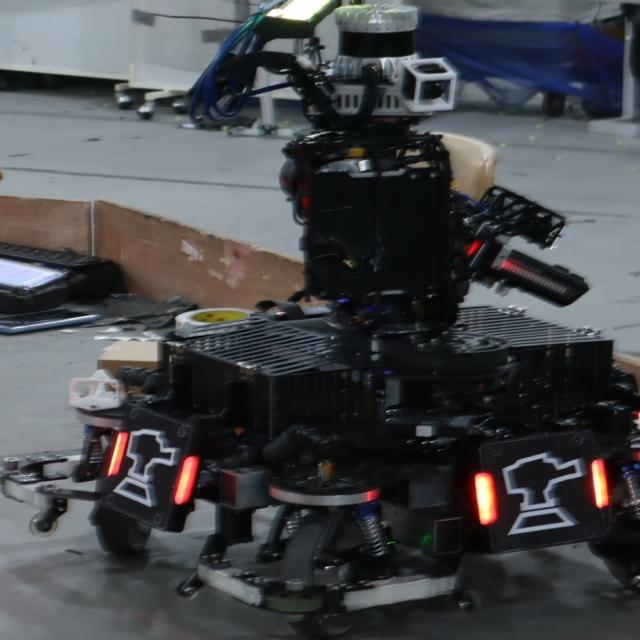Rs: (475, 439, 610, 540), (107, 418, 195, 515)
